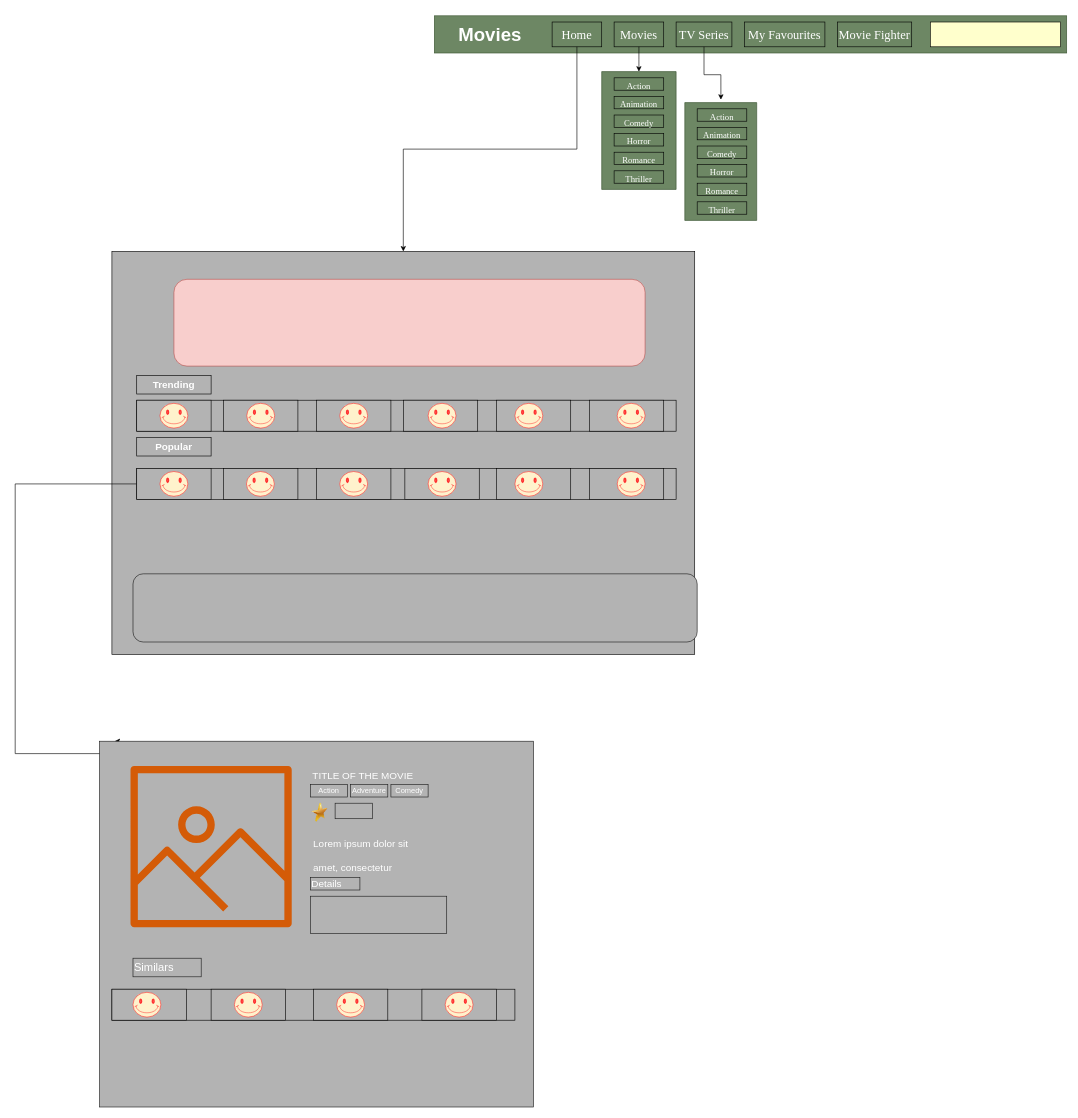
Some shapes in this 1078 by 1118 pixel diagram are drawn without their labels. Each missing label, with the box of its shape:
FOOTER: (132, 573, 697, 642)
IMG/ Carousel: (173, 279, 645, 366)
Release Date Budget Runtime: (310, 896, 447, 933)
Search...: (930, 21, 1061, 47)
Votes: 7.5: (334, 803, 372, 819)
